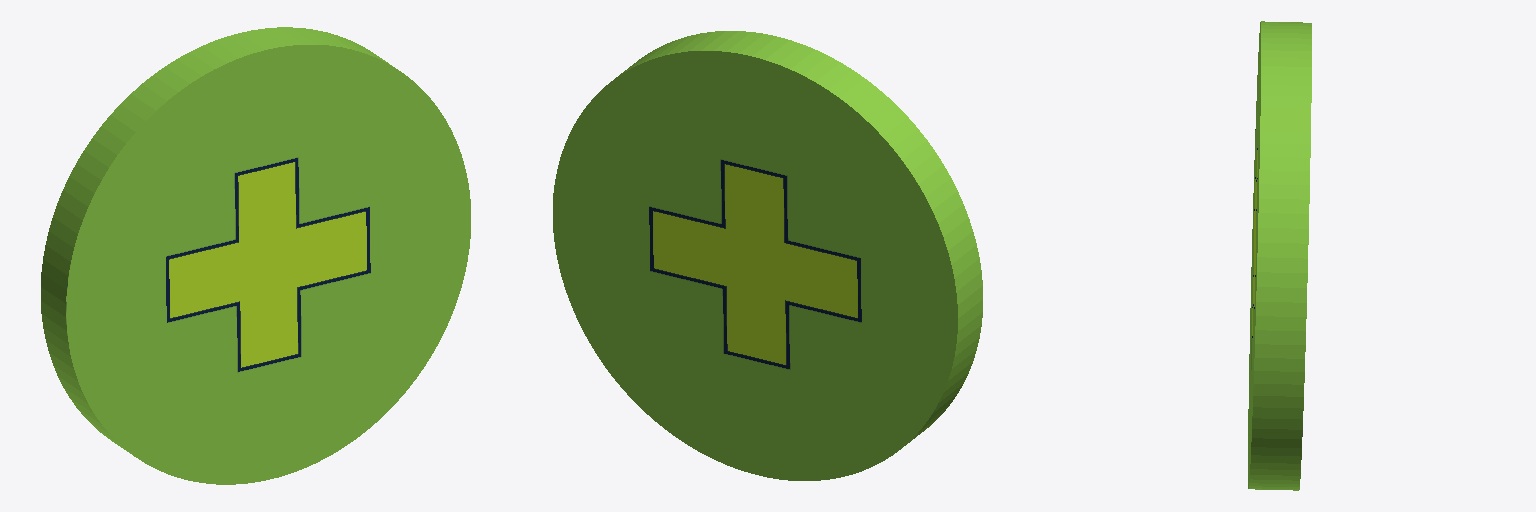
3 views of the same model, side by side, from view 1: azimuth 30°, elevation 25°; view 2: azimuth 150°, elevation 25°; view 3: azimuth 270°, elevation 25° (orthographic).
Parts seen in each view (by area): view 1: 円柱; view 2: 円柱; view 3: 円柱.
Boxes of the visible parts, box(x1,y1,x2,y2) form: 円柱: box(41, 27, 470, 484); 円柱: box(553, 31, 982, 480); 円柱: box(1248, 21, 1311, 490).
Bounding box in the file's own units: 2 × 2 × 0.274.
Materials: 1 (1 with a texture image).